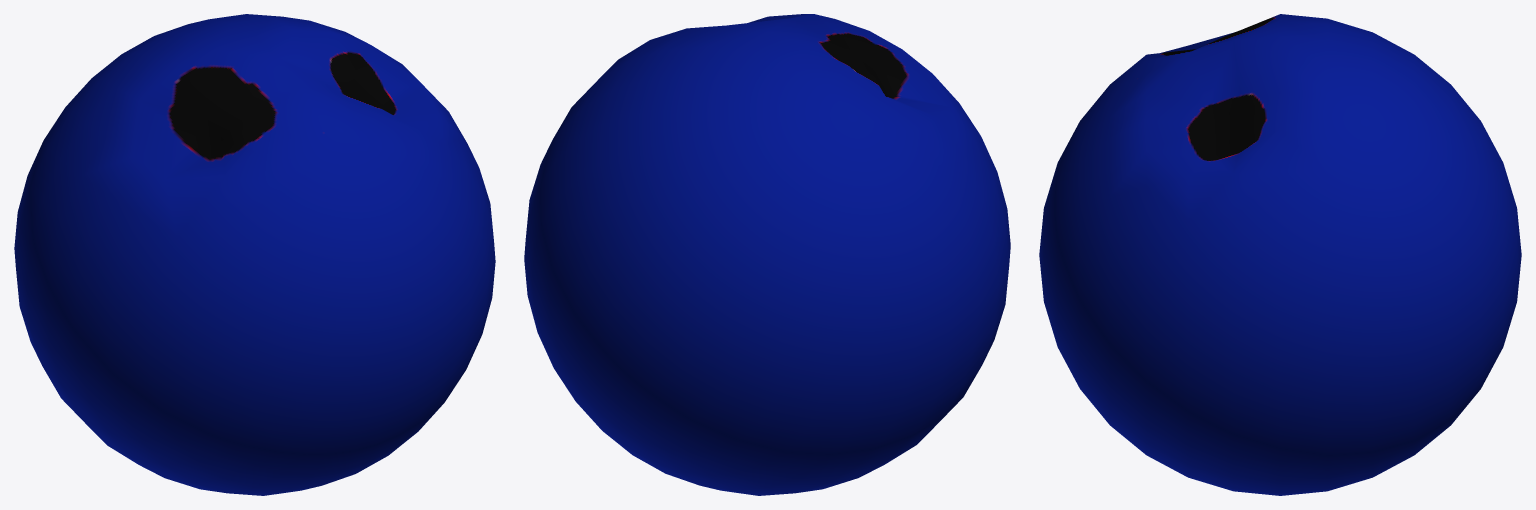
The model's file is shotEnemy.obj.
3 views of the same model, side by side, from view 1: azimuth 30°, elevation 25°; view 2: azimuth 150°, elevation 25°; view 3: azimuth 270°, elevation 25° (orthographic).
Visible parts, largest first — view 1: 球; view 2: 球; view 3: 球.
Boxes of the visible parts, left/top/right/bottom form: 球: left=14, top=14, right=495, bottom=495; 球: left=524, top=14, right=1010, bottom=495; 球: left=1039, top=14, right=1521, bottom=495.
Size of the model in its own units: 2 by 2 by 2.
Materials: 1 (1 with a texture image).
